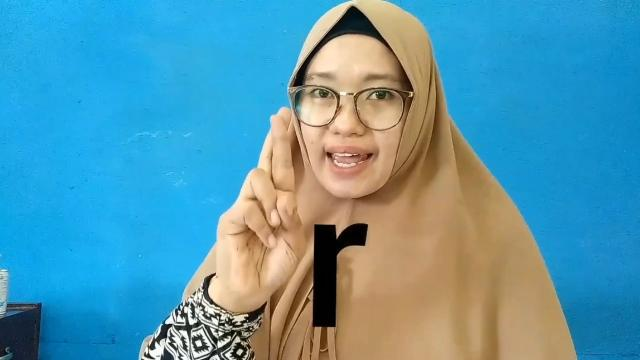R: (214, 105, 306, 299)
